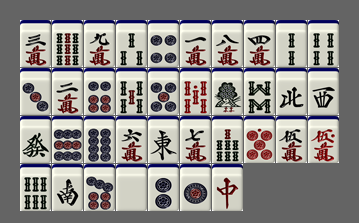0m: (308, 116, 339, 163)
0p: (244, 116, 275, 163)
0s: (180, 68, 211, 115)
1m: (180, 20, 211, 67)
1p: (180, 164, 211, 211)
1s: (212, 68, 243, 115)
1z: (148, 116, 179, 163)
2m: (52, 68, 83, 115)
2p: (148, 164, 179, 211)
2s: (276, 20, 307, 67)
2z: (52, 164, 83, 211)
3m: (20, 20, 51, 67)
3p: (20, 68, 51, 115)
3s: (116, 20, 147, 67)
3z: (308, 68, 339, 115)
4m: (244, 20, 275, 67)
4p: (148, 20, 179, 67)
4s: (308, 20, 339, 67)
4z: (276, 68, 307, 115)
5m: (276, 116, 307, 163)
5p: (148, 68, 179, 115)
5s: (116, 68, 147, 115)
5z: (116, 164, 147, 211)
6m: (116, 116, 147, 163)
6p: (84, 68, 115, 115)
6s: (20, 164, 51, 211)
6z: (20, 116, 51, 163)
7m: (180, 116, 211, 163)
7p: (84, 164, 115, 211)
7s: (212, 116, 243, 163)
7z: (212, 164, 243, 211)
8m: (212, 20, 243, 67)
8p: (84, 116, 115, 163)
8s: (244, 68, 275, 115)
9m: (84, 20, 115, 67)
9p: (52, 116, 83, 163)
9s: (52, 20, 83, 67)
